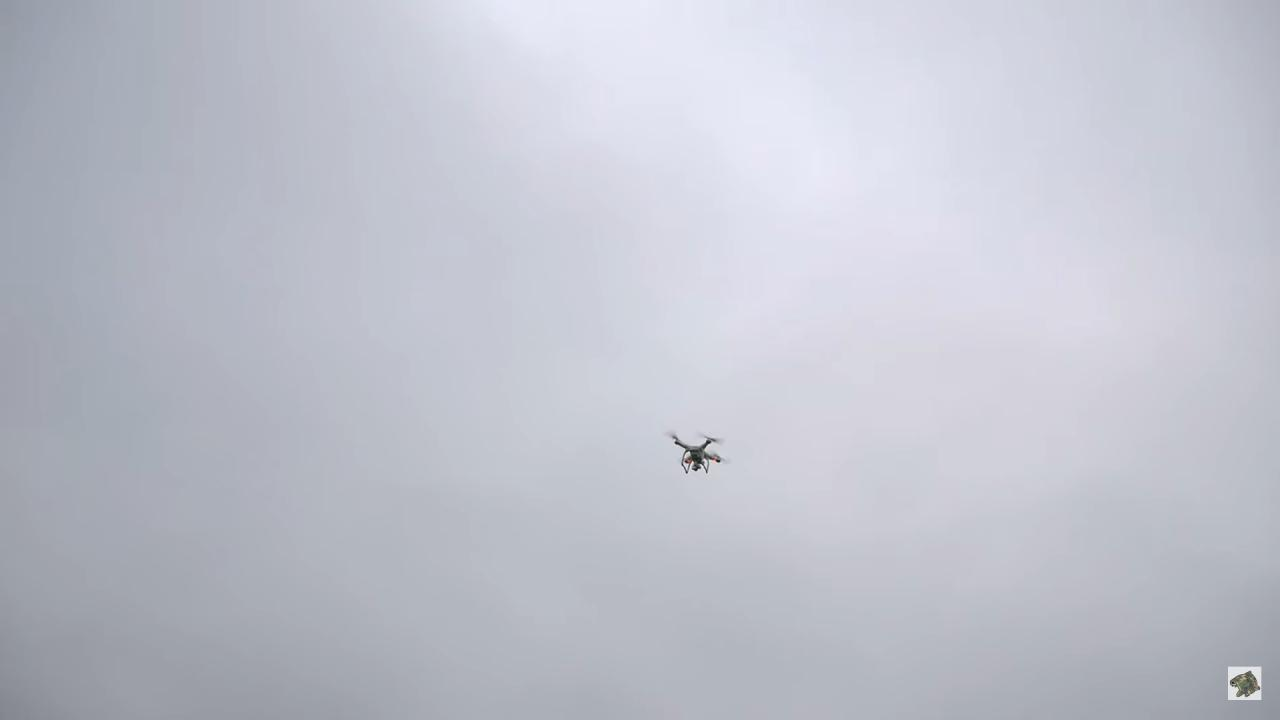Drone: (655, 422, 740, 485)
